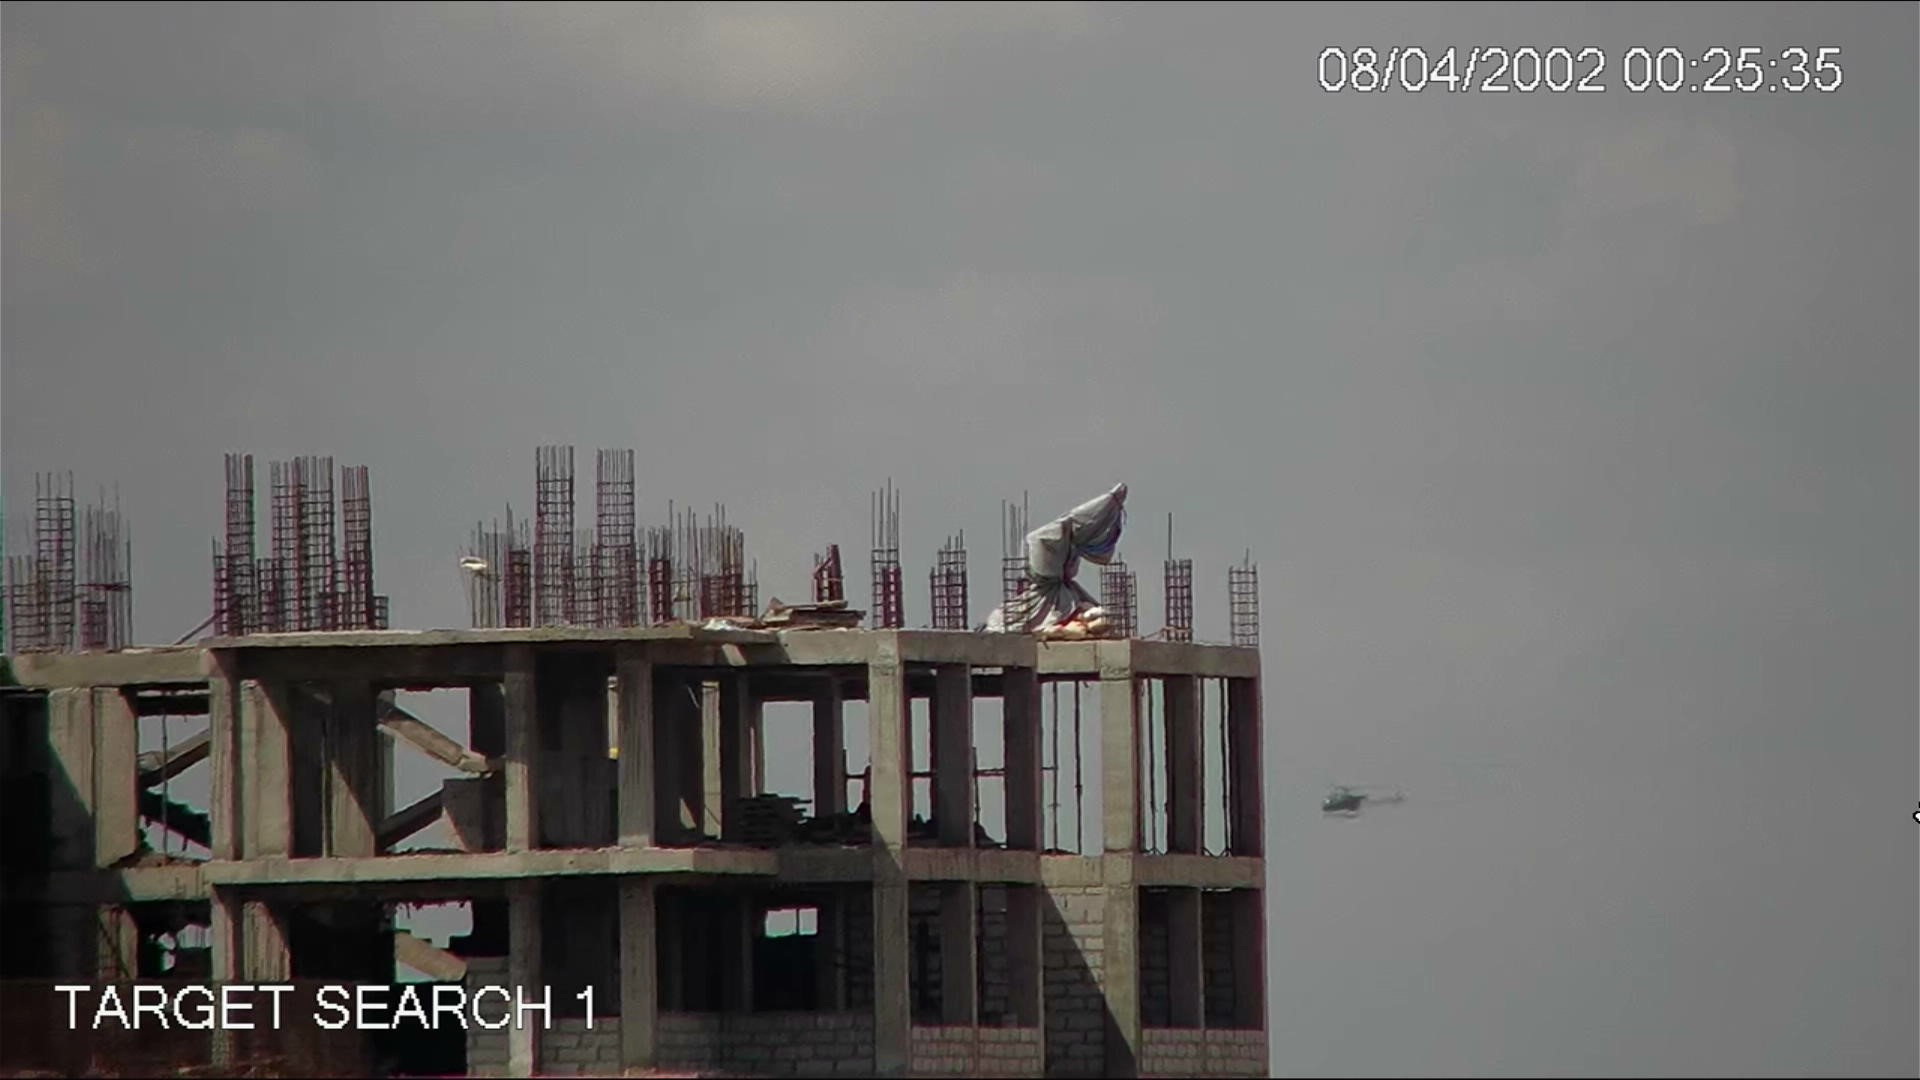SU_30: (1304, 775, 1418, 820)
